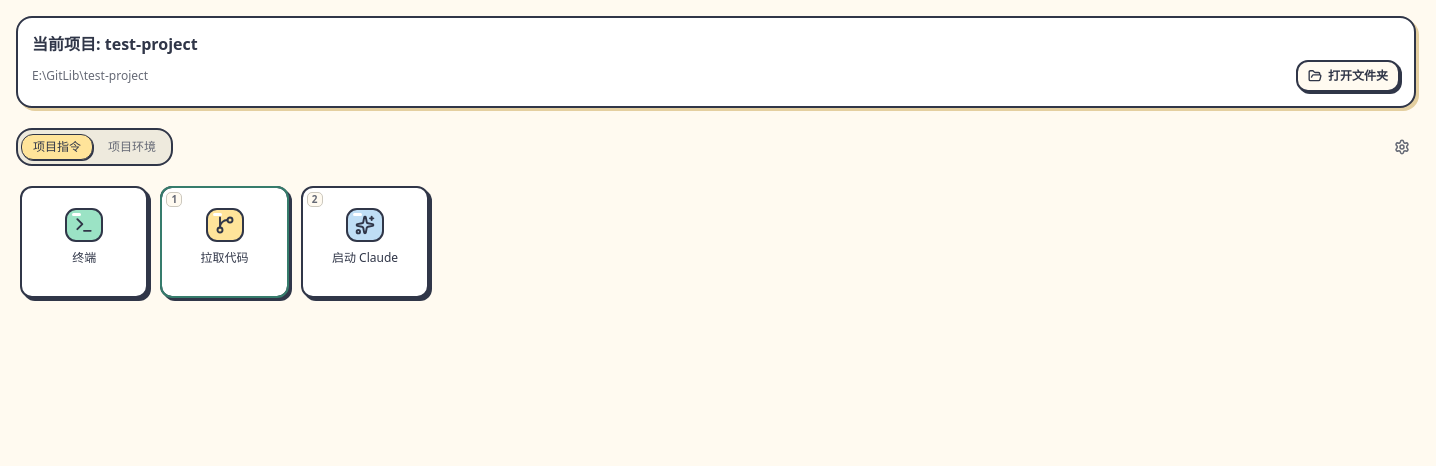
Test: MainArea - Phase 22 edit mode UI › switches to the environment tab and hides command cards
This screenshot has width=1436, height=466.
Click the tab "项目环境" at {"x": 132, "y": 147}, box [96,134,168,160]
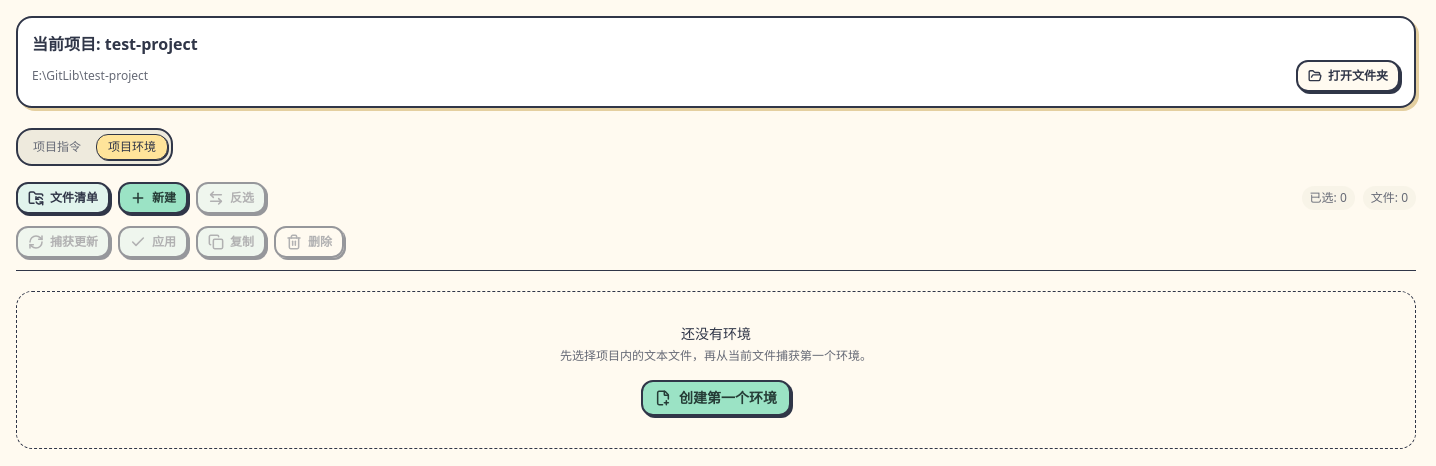
Expected: the button "拉取代码" is gone
Expected: the text "还没有环境" is shown, [681,324,751,343]
Expected: the button "编辑指令" is gone
